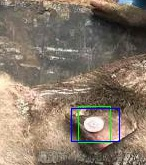text: (78, 106, 110, 142)
